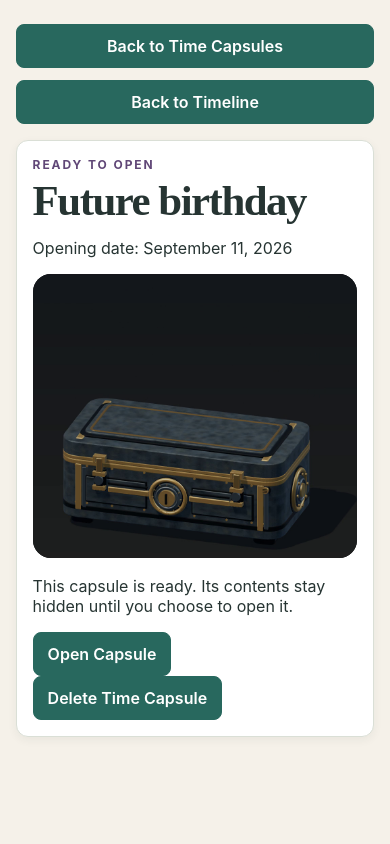
reveals content only after the final opening write succeeds
The image size is (390, 844).
expect the text "Private words" is not shown: met
Click the button "Open Capsule": (102, 654) [33, 632, 171, 676]
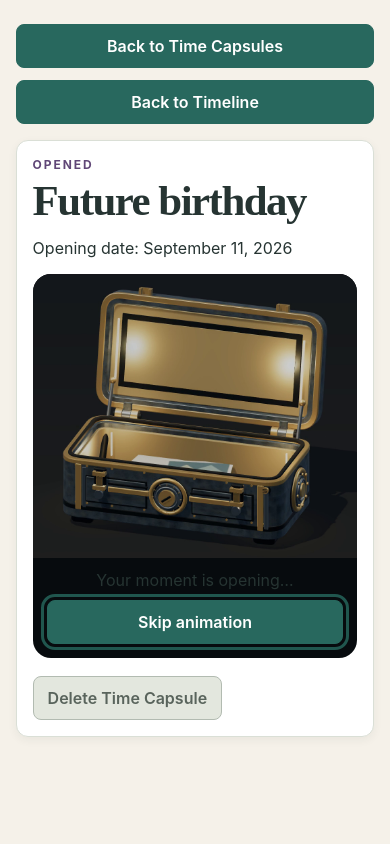
expect the text "Private words for the future" is not shown: met
expect the text "Your moment is opening…" is shown: met, box [96, 570, 294, 590]
expect the button "Delete Time Capsule" is disabled: met, box [33, 676, 222, 720]
Click the button "Skip animation": (195, 622) [47, 600, 343, 644]
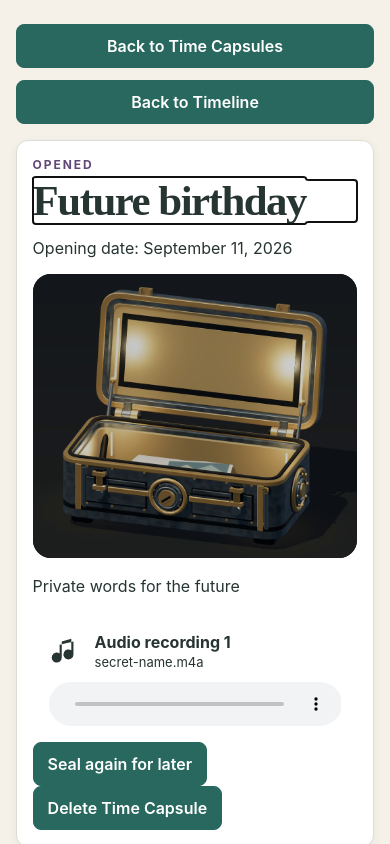
expect the text "Private words for the future" is shown: met, box [33, 576, 240, 596]
